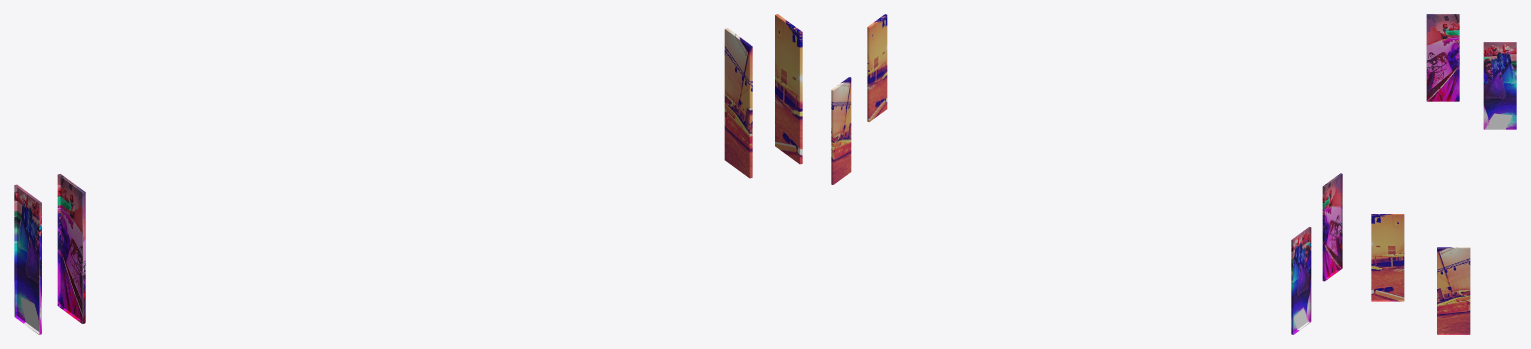
Rendered from paintings.fbx.
The picture shows the model from 3 angles, left to right: view 1: azimuth 30°, elevation 25°; view 2: azimuth 150°, elevation 25°; view 3: azimuth 270°, elevation 25°; orthographic projection. The views are drawn at different scales.
Parts seen in each view (by area): view 1: pictures; view 2: pictures; view 3: pictures.
Part boxes in pixels (x1,y1,x2,y2): pictures: (14,14,802,334); pictures: (831,14,1342,334); pictures: (1371,14,1516,334).
Size of the model in its own units: 842 by 238 by 238.
Materials: 1 (1 with a texture image).
